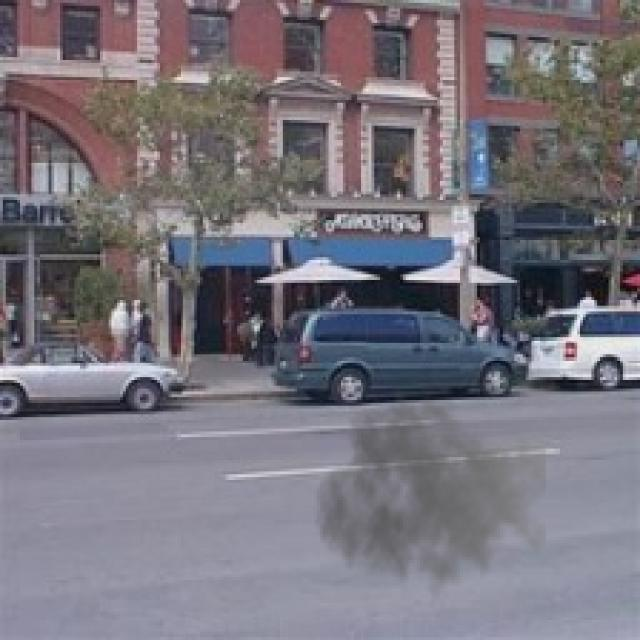smoke: (314, 388, 546, 612)
